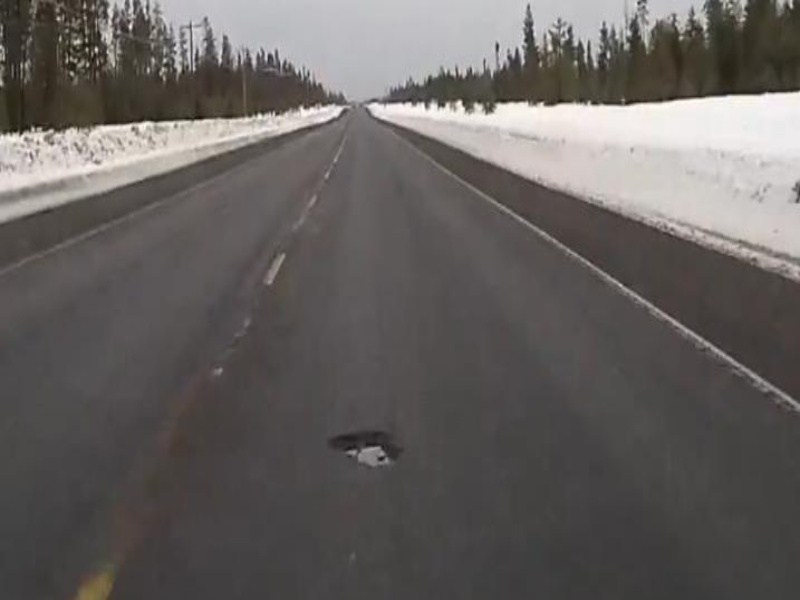pothole: (326, 430, 401, 472)
